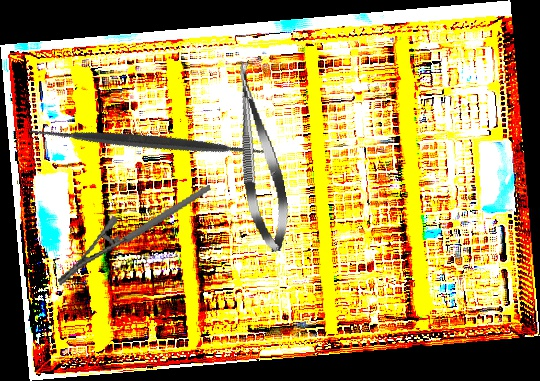Micro Scissor: (223, 58, 296, 255)
Needle Holder: (44, 184, 225, 287)
Spatula Surgical: (20, 11, 282, 274)
